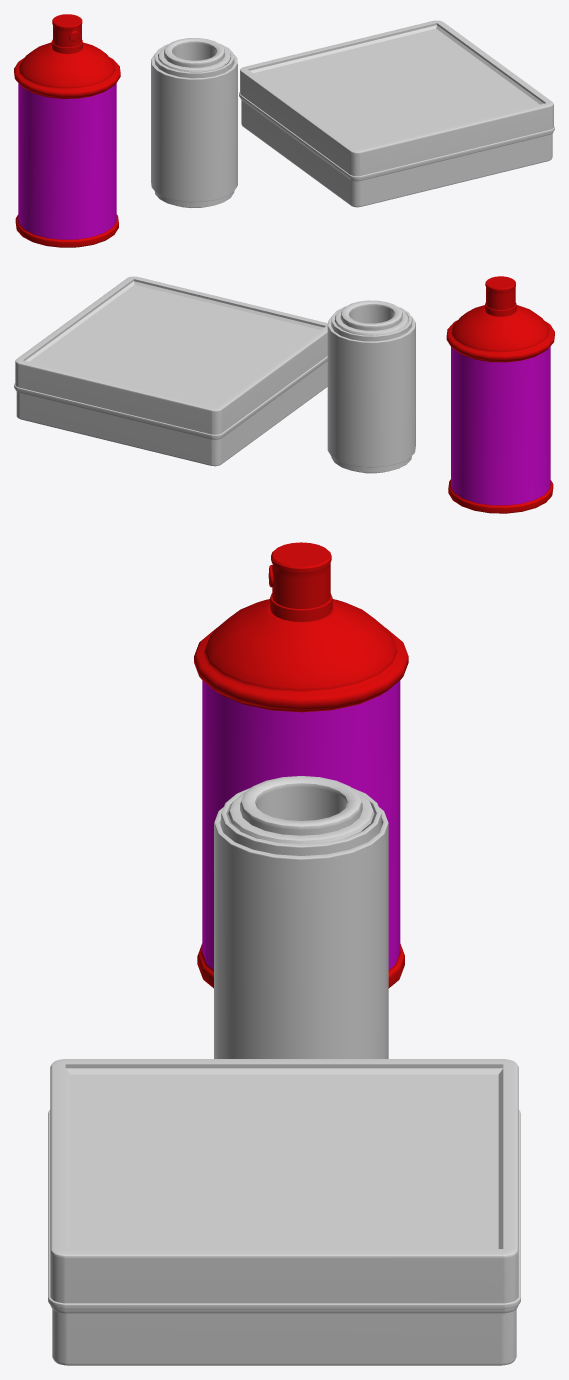
File: Prop_Medical_01.fbx
3 views of the same model, one above another, from view 1: azimuth 30°, elevation 25°; view 2: azimuth 150°, elevation 25°; view 3: azimuth 270°, elevation 25° (orthographic). The views are drawn at different scales.
Parts seen in each view (by area): view 1: pCube3, Prop_Medical_Spray, pPipe1, pCube2, pPipe4, pPipe2, pPipe3; view 2: pCube3, Prop_Medical_Spray, pPipe1, pCube2, pPipe4, pPipe2, pPipe3; view 3: pCube3, Prop_Medical_Spray, pPipe1, pCube2, pPipe4, pPipe2, pPipe3.
Part boxes in pixels (bbox=[...]): pCube3: bbox=[239, 20, 554, 181]; Prop_Medical_Spray: bbox=[14, 14, 120, 247]; pPipe1: bbox=[151, 53, 237, 202]; pCube2: bbox=[241, 100, 552, 207]; pPipe4: bbox=[164, 38, 224, 207]; pPipe2: bbox=[154, 44, 234, 207]; pPipe3: bbox=[158, 46, 230, 71]; pCube3: bbox=[14, 276, 327, 439]; Prop_Medical_Spray: bbox=[446, 276, 554, 513]; pPipe1: bbox=[327, 316, 415, 467]; pCube2: bbox=[16, 361, 327, 466]; pPipe4: bbox=[340, 300, 402, 473]; pPipe2: bbox=[331, 306, 412, 472]; pPipe3: bbox=[334, 308, 408, 335]; pCube3: bbox=[48, 1059, 520, 1313]; Prop_Medical_Spray: bbox=[194, 542, 408, 988]; pPipe1: bbox=[214, 807, 388, 1058]; pCube2: bbox=[52, 1309, 516, 1365]; pPipe4: bbox=[240, 776, 362, 838]; pPipe2: bbox=[221, 787, 381, 855]; pPipe3: bbox=[228, 791, 374, 844].
Size of the model in its own units: 0.6283 by 0.2618 by 0.2714.
